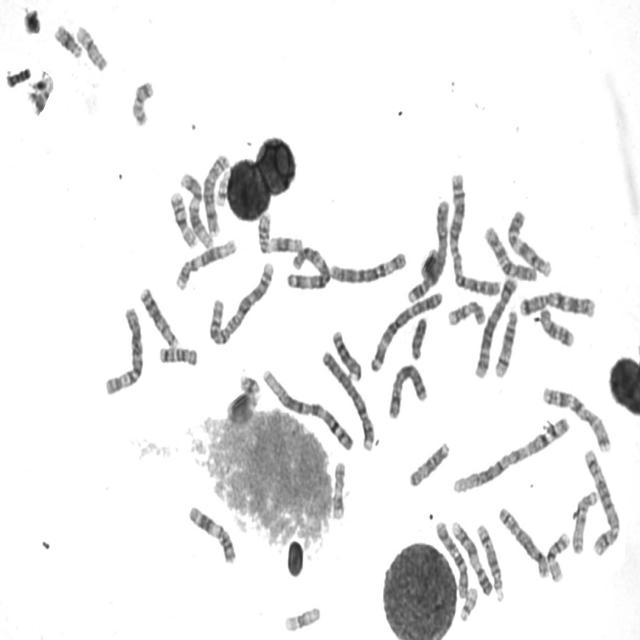A1: (449, 412, 572, 497), (258, 364, 356, 453)
A2: (445, 169, 503, 297), (206, 256, 275, 348)
A3: (368, 287, 444, 374), (284, 242, 331, 291)
B4: (319, 346, 377, 453), (405, 195, 451, 306)
B5: (472, 272, 520, 381), (582, 445, 622, 557)
C10: (482, 222, 538, 284), (433, 517, 470, 599)
C11: (186, 502, 238, 566), (255, 209, 305, 256)
C12: (173, 235, 238, 292), (177, 168, 215, 250)
C6: (102, 302, 145, 397), (328, 247, 408, 286)
C7: (540, 383, 612, 454), (517, 286, 598, 320)
C8: (496, 503, 550, 580), (202, 149, 232, 238)
C9: (448, 517, 494, 598), (504, 206, 554, 280)
D13: (137, 282, 181, 350), (329, 326, 364, 384)
D14: (474, 520, 506, 604), (491, 305, 520, 379)
D15: (406, 438, 451, 488), (570, 485, 600, 556)
E16: (167, 188, 198, 250), (544, 528, 572, 584)
E17: (445, 297, 488, 328), (330, 458, 348, 522)
E18: (537, 304, 576, 348), (156, 343, 199, 367)
F19: (74, 21, 110, 73), (282, 602, 322, 634)
F20: (129, 77, 155, 128), (5, 67, 32, 89)
G21: (52, 21, 84, 60), (236, 370, 262, 398)
G22: (457, 583, 479, 622), (215, 168, 231, 206)
X: (385, 359, 429, 422)
Y: (408, 314, 428, 362)
